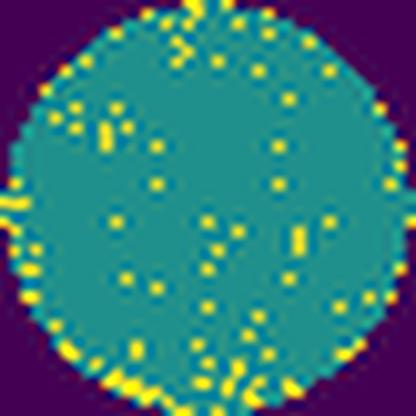Edge-Loc: (104, 371, 199, 415)
